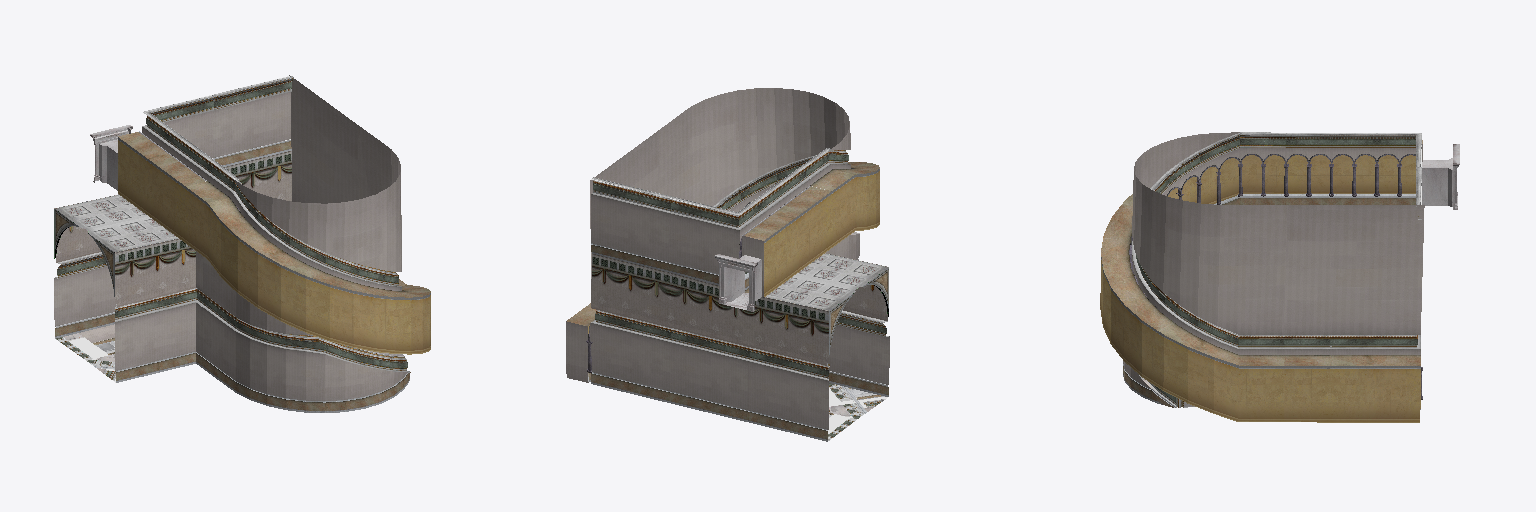
3 views of the same model, side by side, from view 1: azimuth 30°, elevation 25°; view 2: azimuth 150°, elevation 25°; view 3: azimuth 270°, elevation 25° (orthographic).
Visible parts, largest first — view 1: Object017, Object015, Object018, Door009; view 2: Object017, Object018, Object015, Door009; view 3: Object017, Object015, Object016, Door009.
Part boxes in pixels (x1,y1,x2,y2): Object017: (54,75,430,412); Object015: (118,137,430,354); Object018: (54,151,291,306); Door009: (90,125,132,190); Object017: (566,88,889,441); Object018: (591,253,888,365); Object015: (588,169,879,333); Door009: (714,254,761,311); Object017: (1101,132,1424,409); Object015: (1100,155,1420,422); Object016: (1129,154,1422,399); Door009: (1422,144,1459,209).
Bounding box in the file's own units: 20.5 × 15.28 × 24.26.
5 materials, 5 textured.